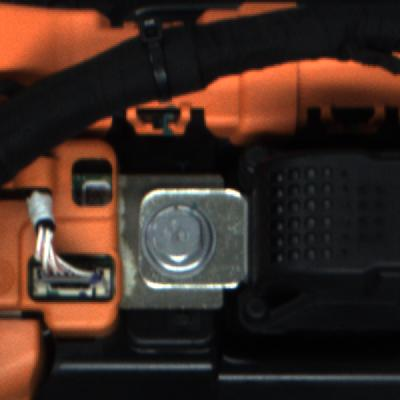nut_b: (140, 197, 219, 271)
